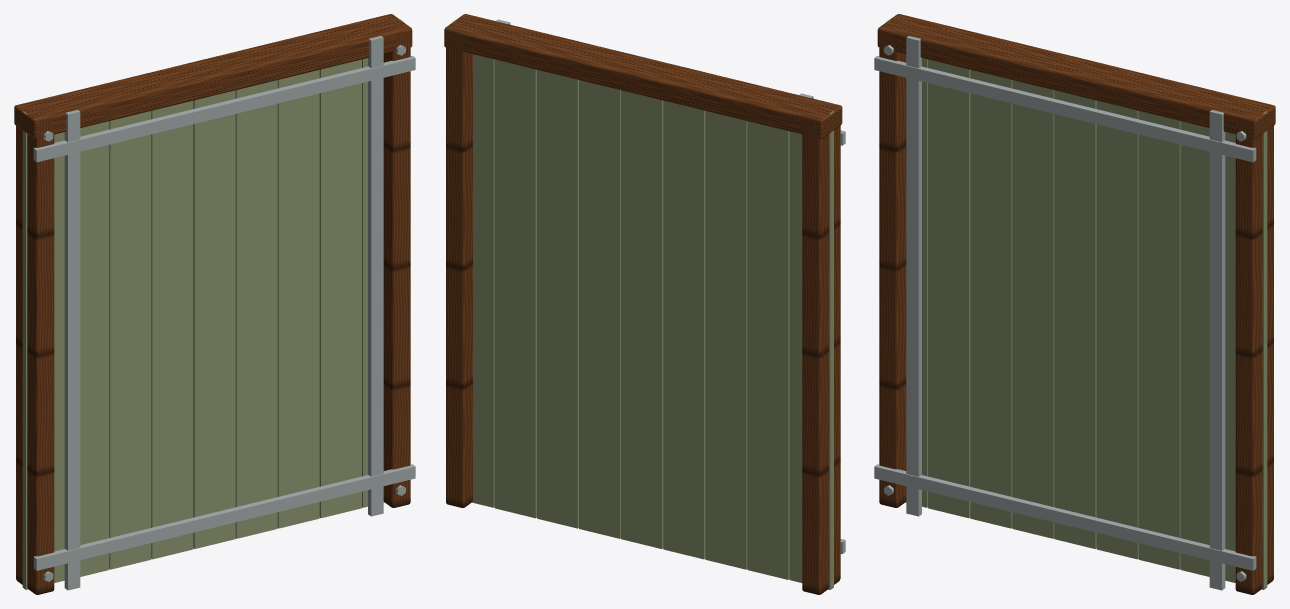
Rendered from modular-survival-base-builder-wall-curtain-partition-r-58f53ce7__24304.glb.
The picture shows the model from 3 angles, left to right: view 1: azimuth 30°, elevation 25°; view 2: azimuth 150°, elevation 25°; view 3: azimuth 330°, elevation 25°; orthographic projection.
Parts seen in each view (by area): view 1: wall-curtain-partition-reinforced; view 2: wall-curtain-partition-reinforced; view 3: wall-curtain-partition-reinforced.
Boxes of the visible parts, x1,y1,x2,y2 form: wall-curtain-partition-reinforced: (14,14,415,594); wall-curtain-partition-reinforced: (444,14,845,594); wall-curtain-partition-reinforced: (874,14,1275,594).
Size of the model in its own units: 2 by 2.4 by 0.2165.
3 materials, 1 textured.
